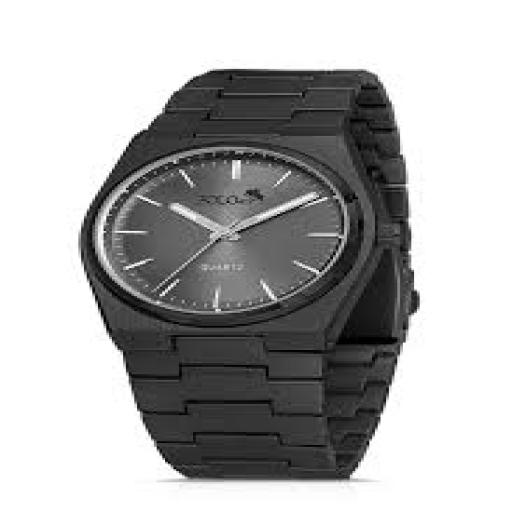KolSaati: (40, 51, 443, 486)
